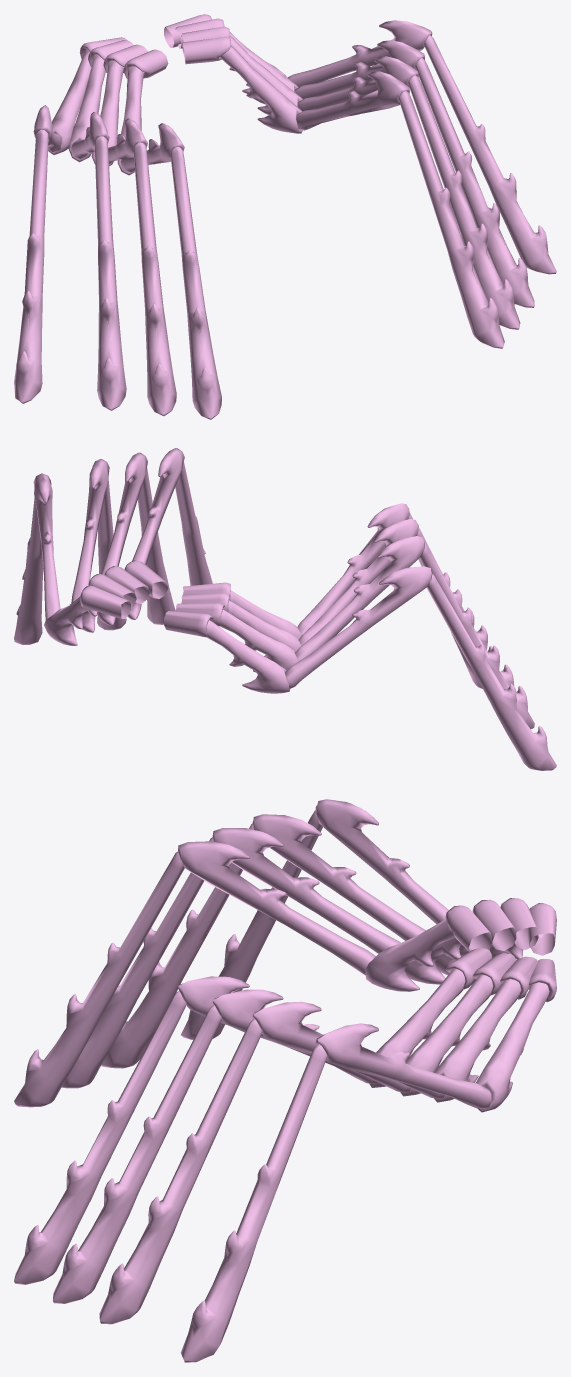
Rendered from Shrimp_Legs_ANylon.fbx.
3 renders of one model, top to bottom at view 1: azimuth 30°, elevation 25°; view 2: azimuth 150°, elevation 25°; view 3: azimuth 270°, elevation 25°, orthographic. The views are drawn at different scales.
Visible parts, largest first — view 1: R.Leg_3_low, R.Leg_3_low.003, R.Leg_3_low.001, R.Leg_3_low.002, R.Leg_2_low, R.Leg_1_low, R.Leg_2_low.003, R.Leg_2_low.002, R.Leg_2_low.001, R.Leg_1_low.001, R.Leg_1_low.002, R.Leg_Base.007 (+4 smaller); view 2: R.Leg_3_low.003, R.Leg_2_low.003, R.Leg_2_low.002, R.Leg_2_low, R.Leg_2_low.001, R.Leg_1_low.003, R.Leg_3_low.002, R.Leg_3_low, R.Leg_3_low.001, R.Leg_Base.004, R.Leg_1_low.002, R.Leg_Base.007 (+4 smaller); view 3: R.Leg_3_low, R.Leg_3_low.002, R.Leg_3_low.001, R.Leg_3_low.003, R.Leg_2_low.003, R.Leg_2_low, R.Leg_2_low.002, R.Leg_2_low.001, R.Leg_1_low, R.Leg_1_low.001, R.Leg_1_low.003, R.Leg_1_low.002 (+4 smaller).
Boxes of the visible parts, x1,y1,x2,y2 form: R.Leg_3_low: (170,91,504,419); R.Leg_3_low.003: (14,35,556,403); R.Leg_3_low.001: (133,75,520,415); R.Leg_3_low.002: (94,58,534,410); R.Leg_2_low: (120,71,409,172); R.Leg_1_low: (117,45,302,175); R.Leg_2_low.003: (33,20,432,152); R.Leg_2_low.002: (71,40,424,159); R.Leg_2_low.001: (94,56,418,163); R.Leg_1_low.001: (91,36,302,165); R.Leg_1_low.002: (68,32,298,162); R.Leg_Base.007: (123,37,230,78); R.Leg_3_low.003: (14,498,556,770); R.Leg_2_low.003: (33,473,432,688); R.Leg_2_low.002: (71,459,424,661); R.Leg_2_low: (132,448,409,634); R.Leg_2_low.001: (101,452,418,645); R.Leg_1_low.003: (44,598,290,693); R.Leg_3_low.002: (97,477,534,728); R.Leg_3_low: (175,462,492,688); R.Leg_3_low.001: (138,468,514,699); R.Leg_Base.004: (79,585,213,637); R.Leg_1_low.002: (70,596,298,672); R.Leg_Base.007: (124,560,230,600); R.Leg_3_low: (14,851,186,1284); R.Leg_3_low.002: (99,824,262,1324); R.Leg_3_low.001: (52,837,221,1303); R.Leg_3_low.003: (180,810,327,1362); R.Leg_2_low.003: (315,799,491,1108); R.Leg_2_low: (178,841,377,1083); R.Leg_2_low.002: (252,814,444,1098); R.Leg_2_low.001: (212,828,410,1092); R.Leg_1_low: (365,919,465,1087); R.Leg_1_low.001: (400,938,492,1096); R.Leg_1_low.003: (476,943,549,1112); R.Leg_1_low.002: (434,944,521,1102).
Size of the model in its own units: 168 by 68.75 by 117.
